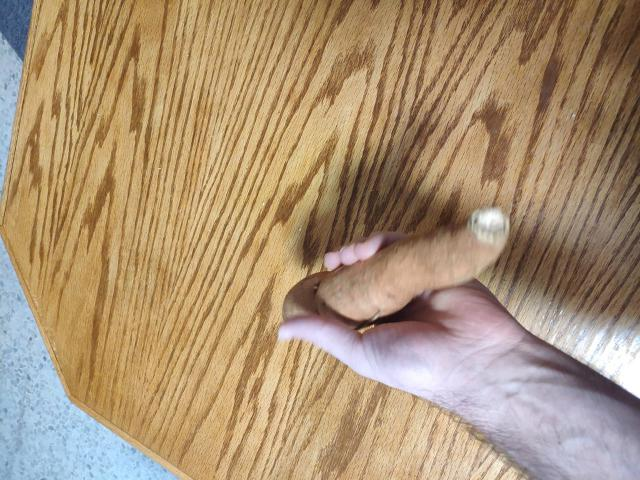sweet_potato: (286, 210, 519, 332)
